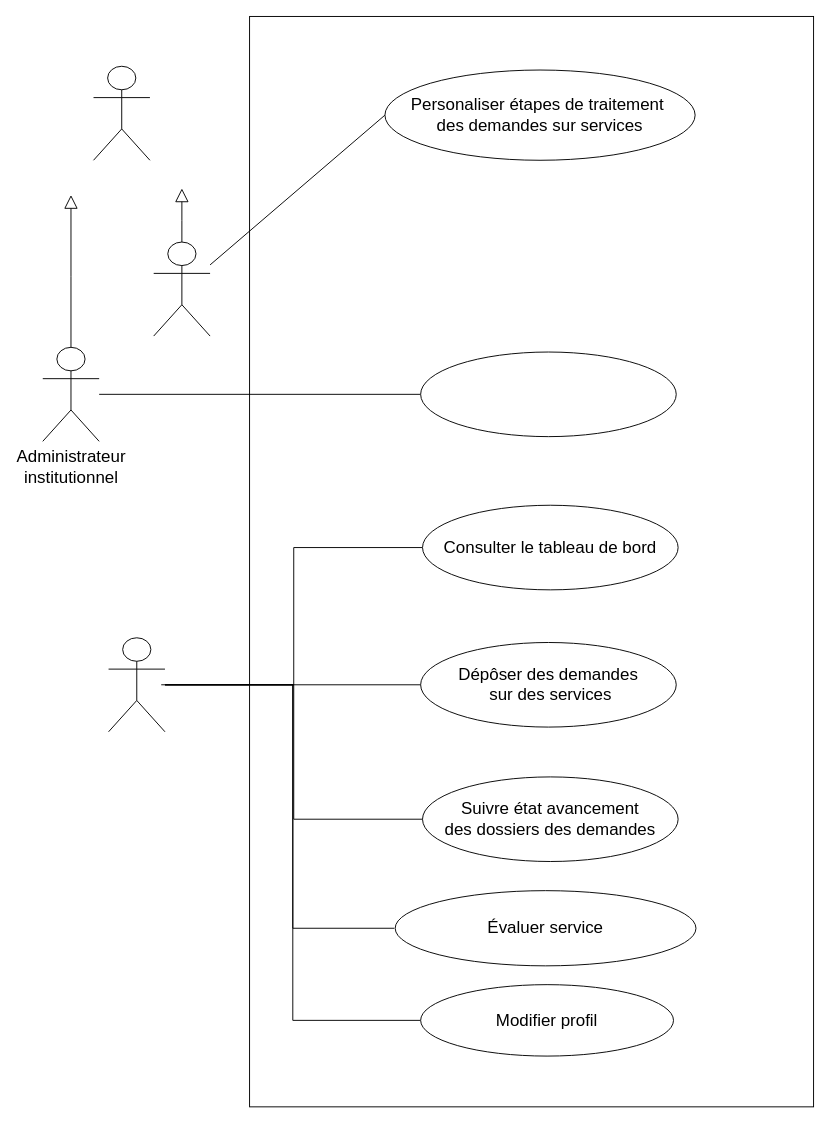
Some shapes in this 830 by 1123 pixel diagram are drawn without their labels. The shapes that lost their labels are listed below. From the top down, each one's centre as x and y in pixels, then its label:
(x=121, y=112): Administrateur
(x=181, y=288): Administrateur Ministériel
(x=548, y=394): Gérer les demandes sur services
(x=136, y=684): client
